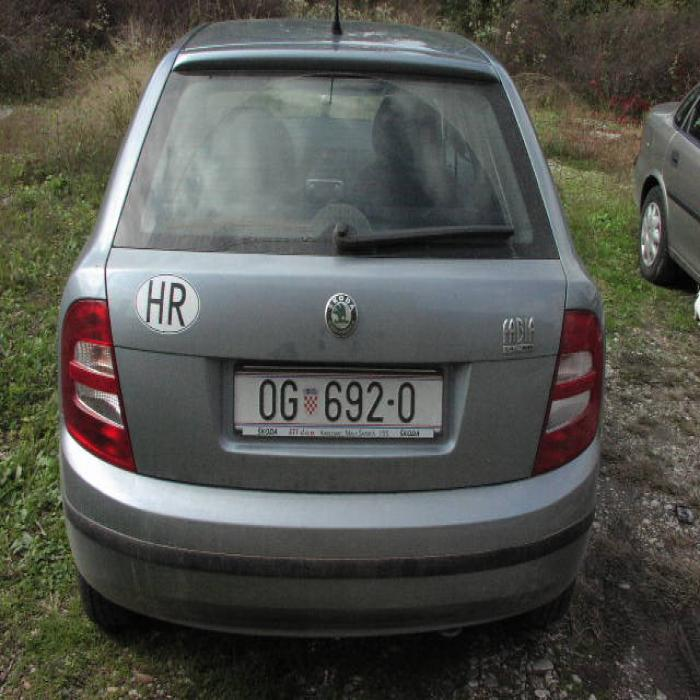number_plate: (232, 375, 442, 427)
